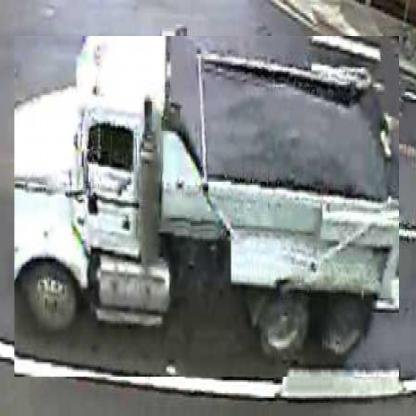truck: (15, 37, 400, 379)
